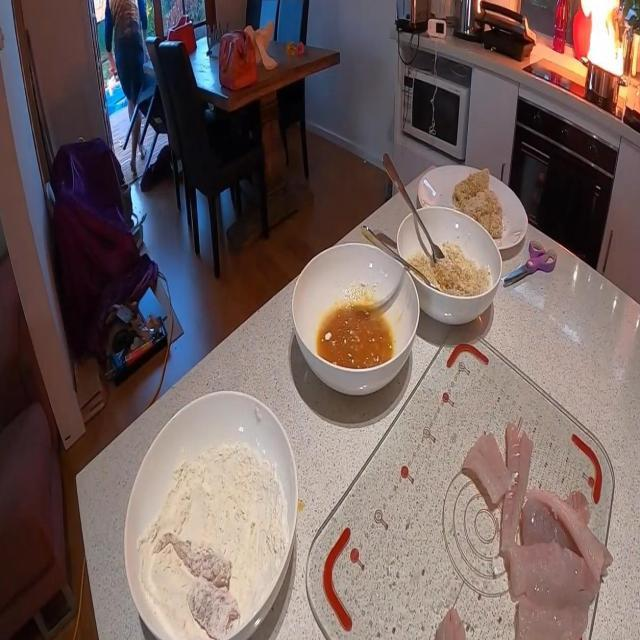smoke: (578, 0, 625, 79)
